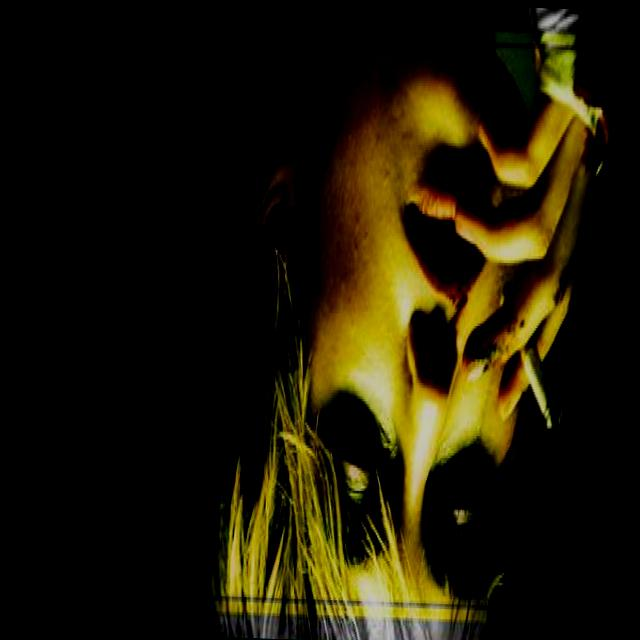cigarette: (482, 262, 586, 475)
